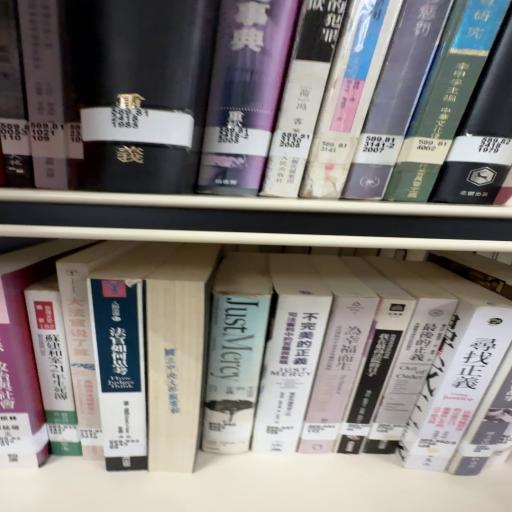backward: (147, 245, 220, 475)
book: (342, 3, 453, 205), (302, 3, 401, 204), (263, 3, 350, 203), (151, 278, 211, 473), (92, 279, 150, 471), (21, 276, 77, 457)
